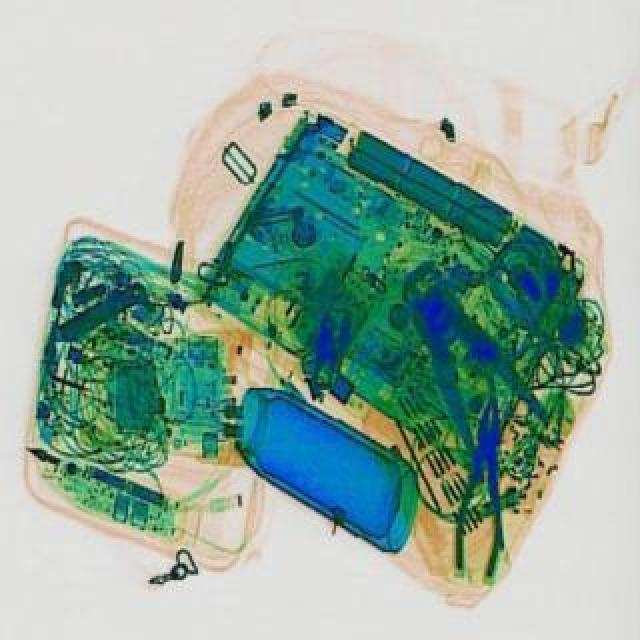wrench: (368, 246, 568, 484), (454, 394, 518, 574)
